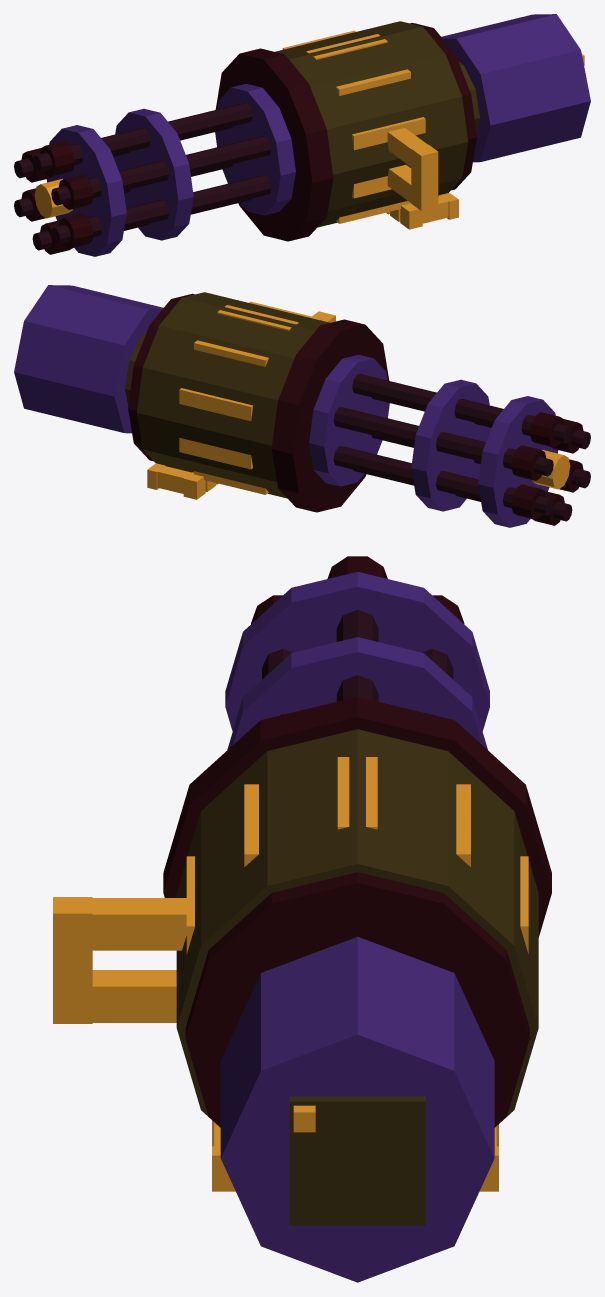
Rendered from gatling.glb.
The picture shows the model from 3 angles, top to bottom: view 1: azimuth 30°, elevation 25°; view 2: azimuth 150°, elevation 25°; view 3: azimuth 270°, elevation 25°; orthographic projection. The views are drawn at different scales.
Parts seen in each view (by area): view 1: receiver, rear_motor, receiver_front_ring, barrel_ring_0, barrel_ring_1, barrel_ring_2, barrel_1, barrel_2, barrel_0, receiver_rear_ring, handle_top, receiver_rib_2 (+15 smaller); view 2: receiver, rear_motor, receiver_front_ring, barrel_ring_0, barrel_ring_1, barrel_ring_2, barrel_5, barrel_4, barrel_0, receiver_rear_ring, receiver_rib_8, receiver_rib_7 (+12 smaller); view 3: rear_motor, receiver, receiver_rear_ring, back_plate, receiver_front_ring, barrel_ring_2, barrel_ring_1, handle_right, handle_left, handle_top, barrel_0, receiver_rib_0 (+2 smaller).
Boxes of the visible parts, box(x1,y1,x2,y2) form: receiver: box(275, 21, 468, 227); rear_motor: box(441, 14, 590, 162); receiver_front_ring: box(215, 48, 333, 241); barrel_ring_0: box(215, 83, 295, 215); barrel_ring_1: box(113, 108, 193, 240); barrel_ring_2: box(46, 125, 126, 256); barrel_1: box(89, 136, 271, 197); barrel_2: box(89, 175, 271, 237); barrel_0: box(70, 103, 252, 164); receiver_rear_ring: box(410, 22, 476, 190); handle_top: box(411, 144, 438, 210); receiver_rib_2: box(352, 117, 425, 150); receiver: box(136, 292, 329, 498); rear_motor: box(14, 285, 163, 433); receiver_front_ring: box(271, 319, 389, 512); barrel_ring_0: box(309, 354, 389, 486); barrel_ring_1: box(411, 379, 491, 511); barrel_ring_2: box(478, 396, 558, 527); barrel_5: box(333, 407, 515, 468); barrel_4: box(333, 446, 515, 508); barrel_0: box(352, 374, 534, 435); receiver_rear_ring: box(128, 293, 194, 461); receiver_rib_8: box(179, 388, 252, 421); receiver_rib_7: box(179, 437, 252, 469); rear_motor: box(220, 936, 494, 1282); receiver: box(176, 729, 538, 1127); receiver_rear_ring: box(185, 872, 529, 1127); back_plate: box(289, 1096, 425, 1225); receiver_front_ring: box(163, 696, 551, 937); barrel_ring_2: box(225, 571, 489, 731); barrel_ring_1: box(227, 637, 487, 749); handle_right: box(71, 898, 186, 950); handle_left: box(71, 970, 176, 1022); handle_top: box(53, 897, 92, 1023); barrel_0: box(336, 609, 378, 701); receiver_rib_0: box(337, 757, 377, 829).
Bounding box in the file's own units: 1.65 × 0.5221 × 0.6704.
